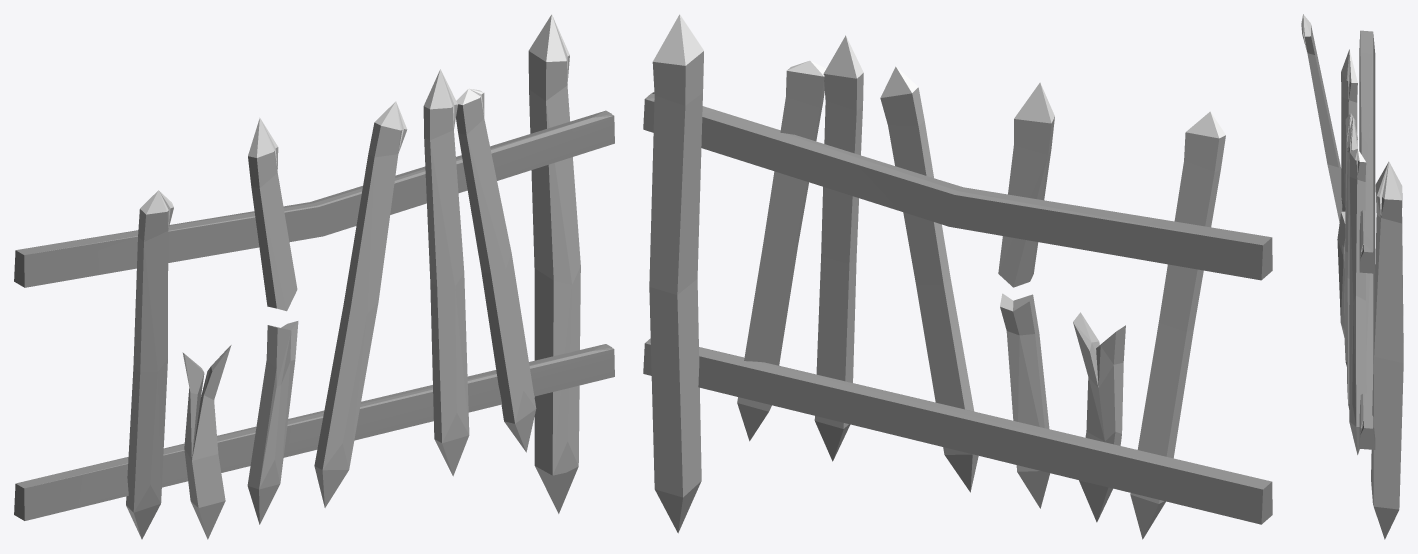
File: PT_Modular_Fence_Wood_03.glb
The picture shows the model from 3 angles, left to right: view 1: azimuth 30°, elevation 25°; view 2: azimuth 150°, elevation 25°; view 3: azimuth 270°, elevation 25°; orthographic projection. The views are drawn at different scales.
Visible parts, largest first — view 1: PT_Modular_Fence_Wood_03; view 2: PT_Modular_Fence_Wood_03; view 3: PT_Modular_Fence_Wood_03.
Part boxes in pixels (bbox=[...]): PT_Modular_Fence_Wood_03: bbox=[14, 14, 614, 539]; PT_Modular_Fence_Wood_03: bbox=[643, 14, 1272, 539]; PT_Modular_Fence_Wood_03: bbox=[1301, 14, 1403, 539].
Size of the model in its own units: 2.2 by 1.78 by 0.4378.
1 material, 1 textured.
